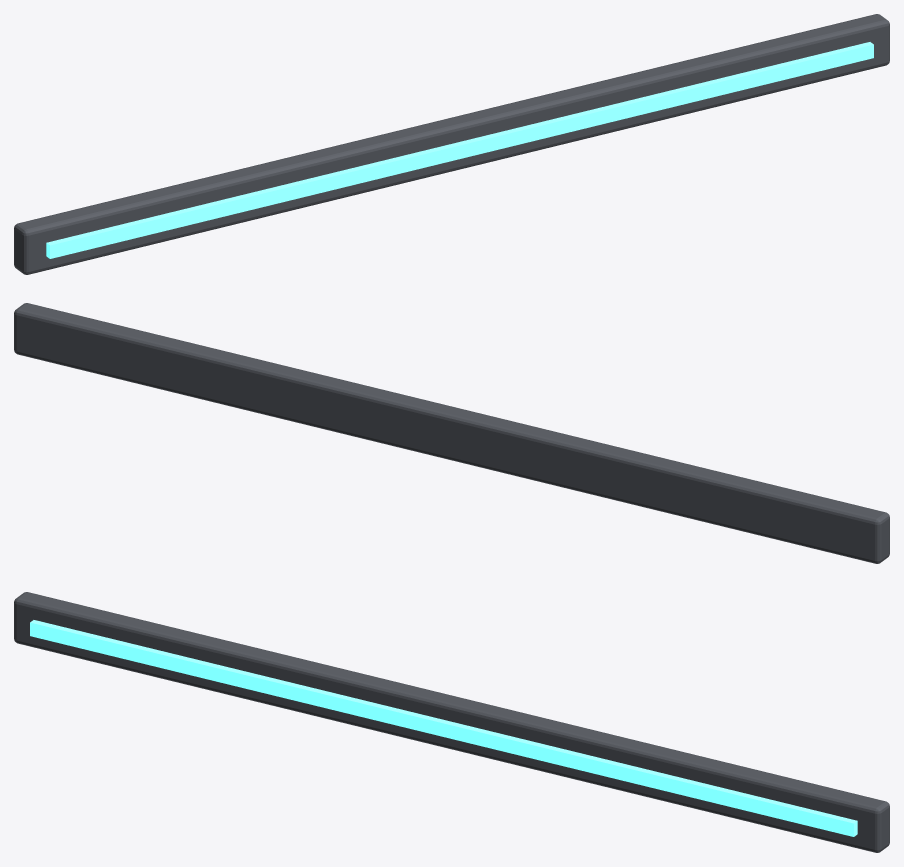
Rendered from light_strip_wall_run.glb.
3 views of the same model, one above another, from view 1: azimuth 30°, elevation 25°; view 2: azimuth 150°, elevation 25°; view 3: azimuth 330°, elevation 25° (orthographic).
Visible parts, largest first — view 1: GD_light_strip_wall_run__m0, GD_light_strip_wall_run__m1; view 2: GD_light_strip_wall_run__m0; view 3: GD_light_strip_wall_run__m0, GD_light_strip_wall_run__m1.
Part boxes in pixels (bbox=[...]): GD_light_strip_wall_run__m0: bbox=[14, 14, 889, 274]; GD_light_strip_wall_run__m1: bbox=[46, 42, 873, 258]; GD_light_strip_wall_run__m0: bbox=[14, 303, 889, 563]; GD_light_strip_wall_run__m0: bbox=[14, 592, 889, 852]; GD_light_strip_wall_run__m1: bbox=[30, 620, 857, 836].
Bounding box in the file's own units: 2 × 0.1 × 0.065.
